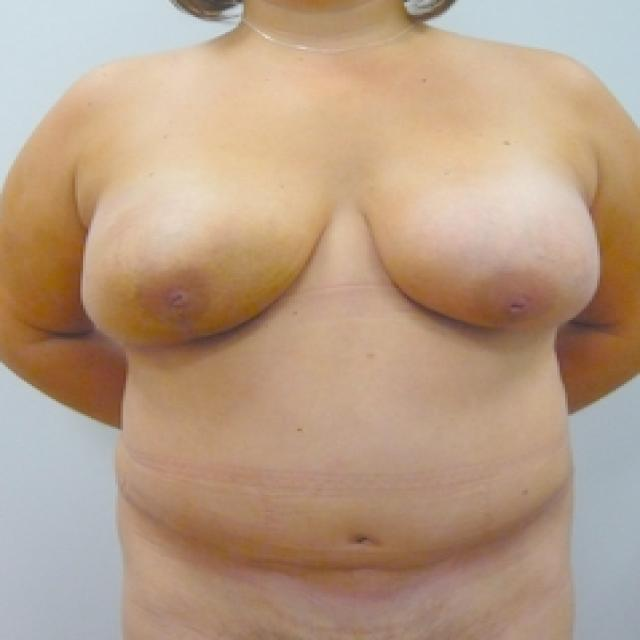Seno herido: (70, 137, 340, 365)
Seno ileso: (346, 137, 616, 350)
